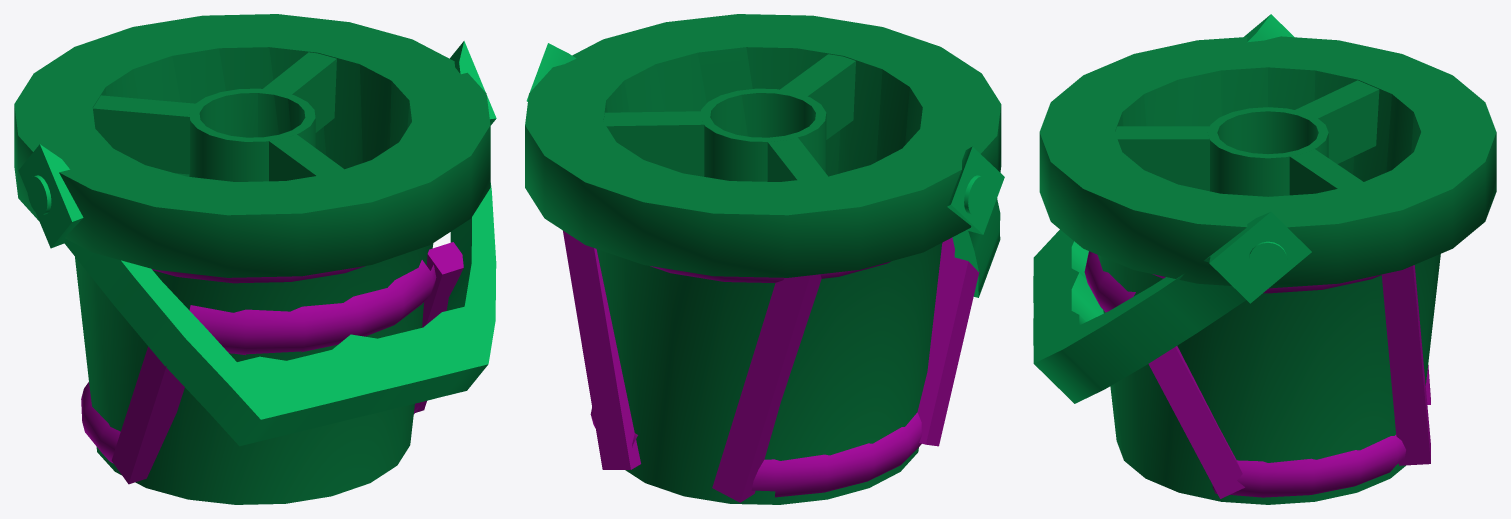
Rendered from Bucket.fbx.
3 views of the same model, side by side, from view 1: azimuth 30°, elevation 25°; view 2: azimuth 150°, elevation 25°; view 3: azimuth 270°, elevation 25° (orthographic). The views are drawn at different scales.
Parts seen in each view (by area): view 1: pCylinder3, pCube1, pTorus3, pCylinder8, pCube7, pCube4, pCube6, pCube5, pCube8, pTorus2, pTorus1, pCylinder4; view 2: pCylinder3, pCube3, pCylinder8, pCube2, pCube4, pTorus2, pCube1, pCube6, pCube5, pCube7, pTorus1, pCylinder4; view 3: pCylinder3, pCube1, pCylinder8, pCube2, pTorus2, pCube8, pCube5, pCube7, pCube6, pTorus3, pCylinder5, pTorus1.
Boxes of the visible parts, x1,y1,x2,y2 form: pCylinder3: (14, 14, 490, 504); pCube1: (18, 41, 496, 446); pTorus3: (189, 260, 436, 355); pCylinder8: (189, 88, 315, 181); pCube7: (93, 95, 194, 174); pCube4: (111, 346, 184, 484); pCube6: (263, 52, 336, 132); pCube5: (269, 134, 343, 181); pCube8: (414, 242, 463, 412); pTorus2: (81, 382, 420, 463); pTorus1: (152, 266, 365, 283); pCylinder4: (27, 175, 51, 215); pCylinder3: (525, 14, 1001, 504); pCube3: (712, 274, 821, 502); pCylinder8: (700, 88, 826, 181); pCube2: (563, 231, 640, 469); pCube4: (917, 237, 979, 446); pTorus2: (590, 407, 921, 497); pCube1: (526, 43, 1004, 297); pCube6: (603, 111, 704, 176); pCube5: (780, 54, 855, 139); pCube7: (767, 137, 827, 181); pTorus1: (650, 261, 890, 282); pCylinder4: (964, 175, 988, 215); pCylinder3: (1039, 36, 1496, 504); pCube1: (1033, 14, 1311, 403); pCylinder8: (1207, 107, 1328, 196); pCube2: (1381, 265, 1430, 465); pTorus2: (1212, 435, 1405, 497); pCube8: (1148, 346, 1244, 498); pCube5: (1115, 126, 1209, 191); pCube7: (1295, 80, 1379, 163); pCube6: (1289, 149, 1363, 195); pTorus3: (1084, 251, 1135, 312); pCylinder5: (1249, 241, 1287, 277); pTorus1: (1152, 274, 1381, 293).
Bounding box in the file's own units: 7.84 × 5.99 × 7.64.
